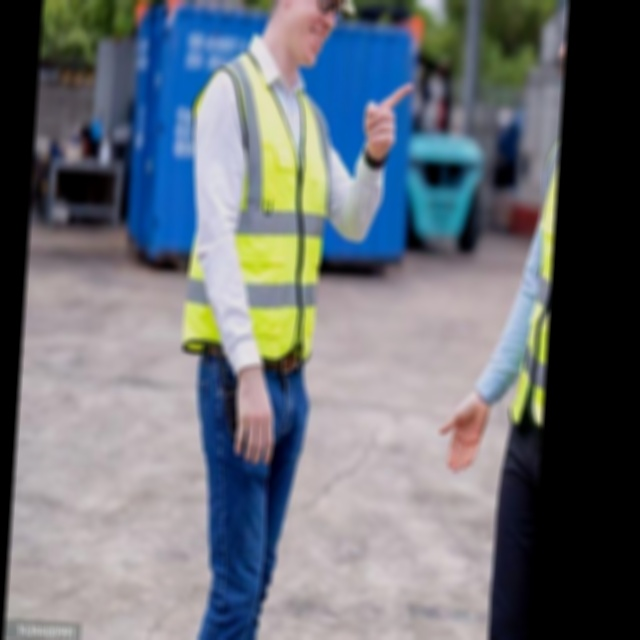Con_Casco: (268, 0, 360, 75)
Con_Chaleco: (181, 48, 338, 377)
